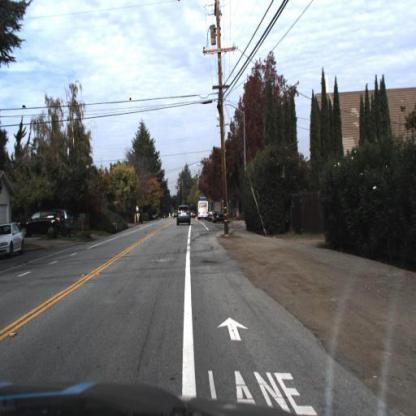car: (21, 213, 64, 240), (1, 221, 26, 260), (175, 204, 193, 232), (211, 202, 232, 225), (55, 212, 75, 233), (60, 209, 75, 237), (196, 199, 212, 225)
